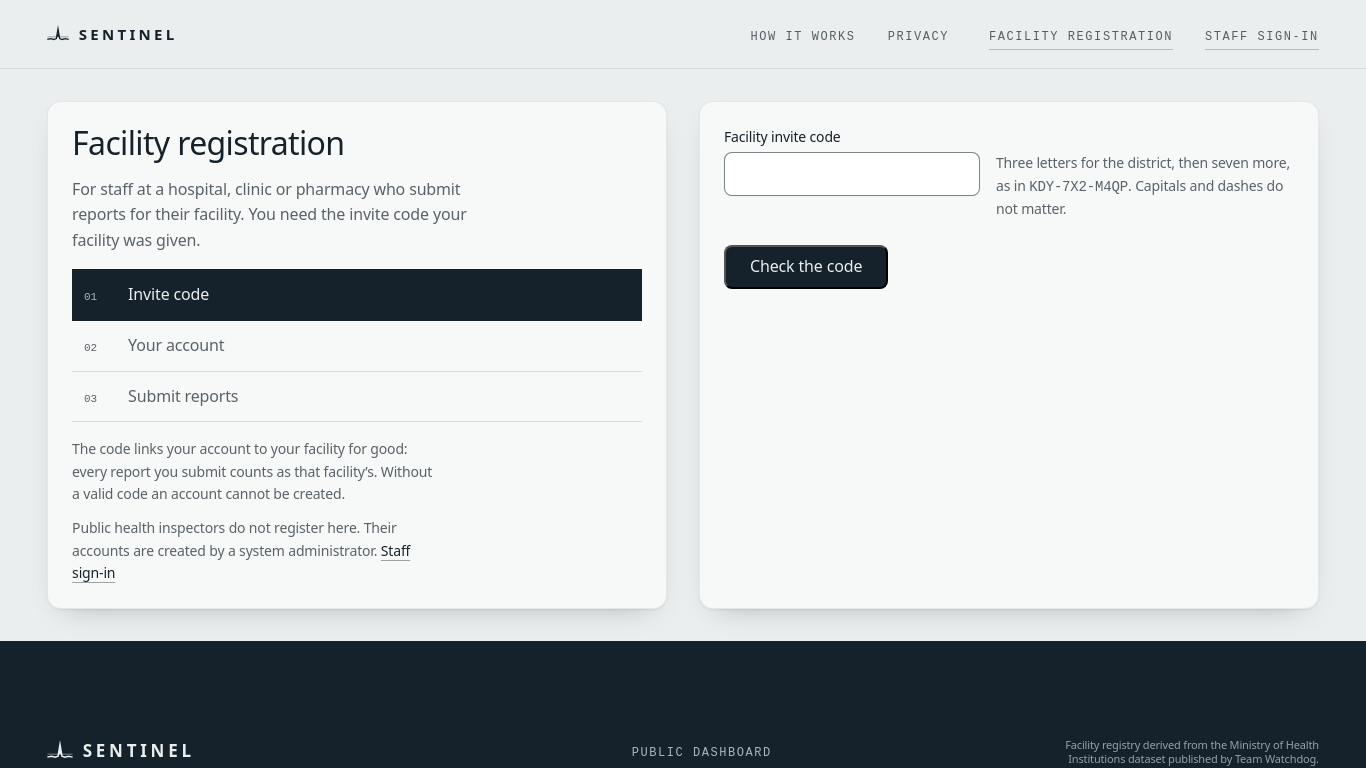
Test: RegisterPage › refuses a code that matches no facility, and goes no further
The width and height of the screenshot is (1366, 768).
In the field labelled "Facility invite code": (852, 174) [724,152,980,196], type "KDY-AAA-AAAA"
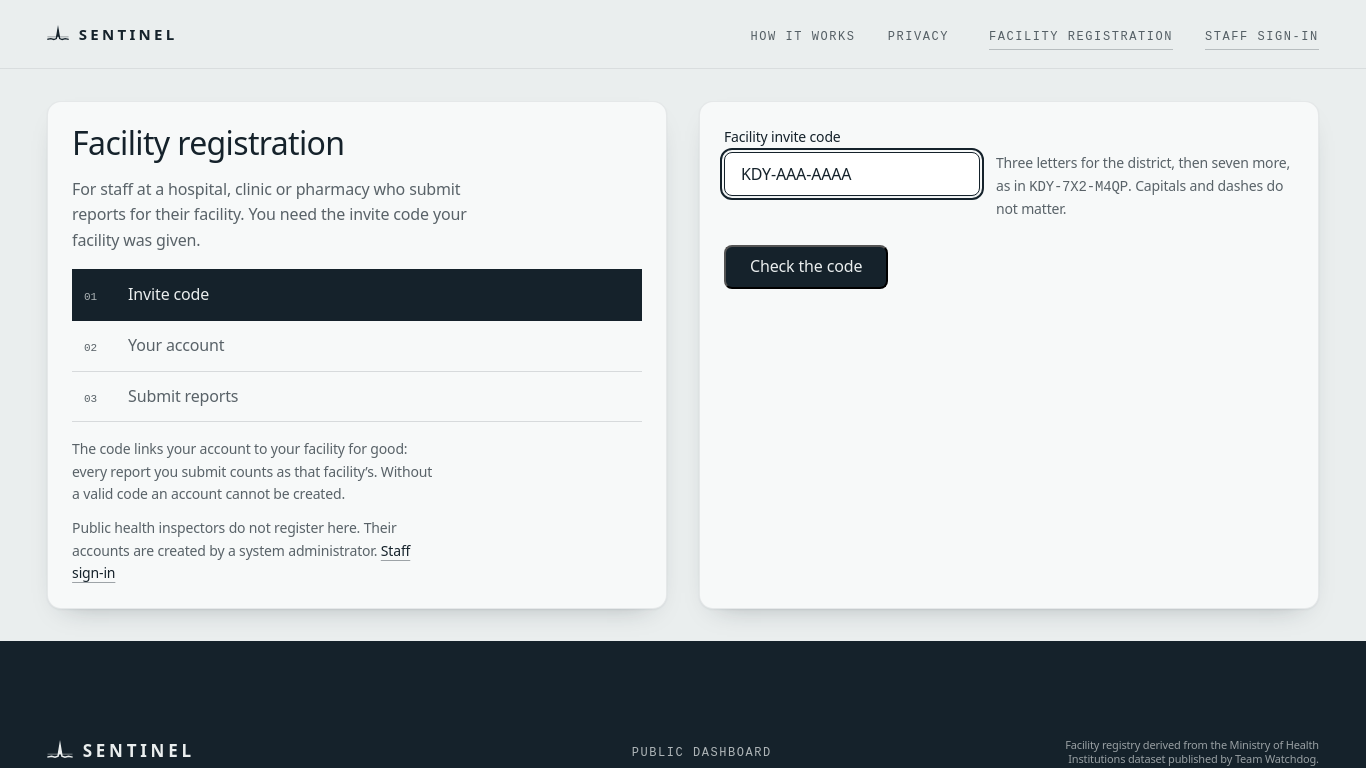
Click the button "Check the code": click(806, 267) [724,245,888,289]
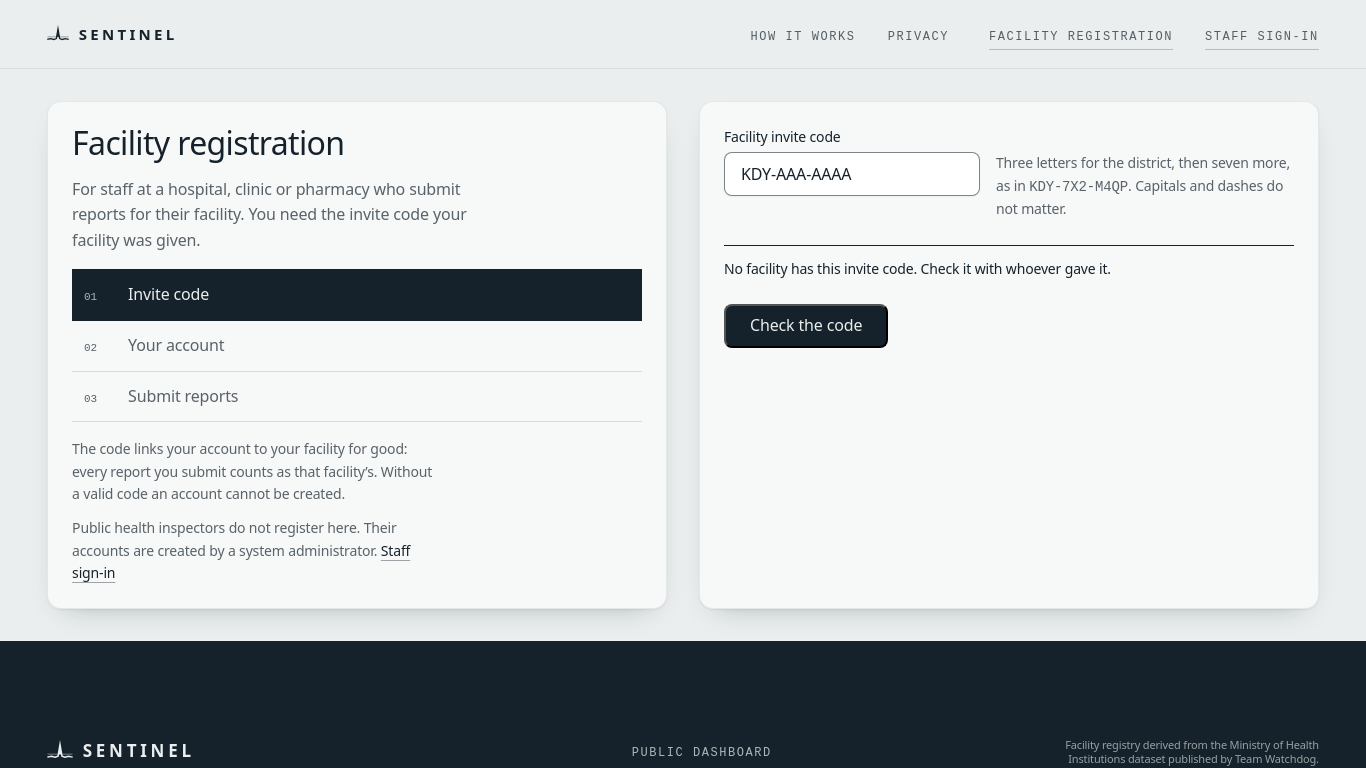
Check: the message shows "No facility has this invite code.", box [724,259,1111,278]
